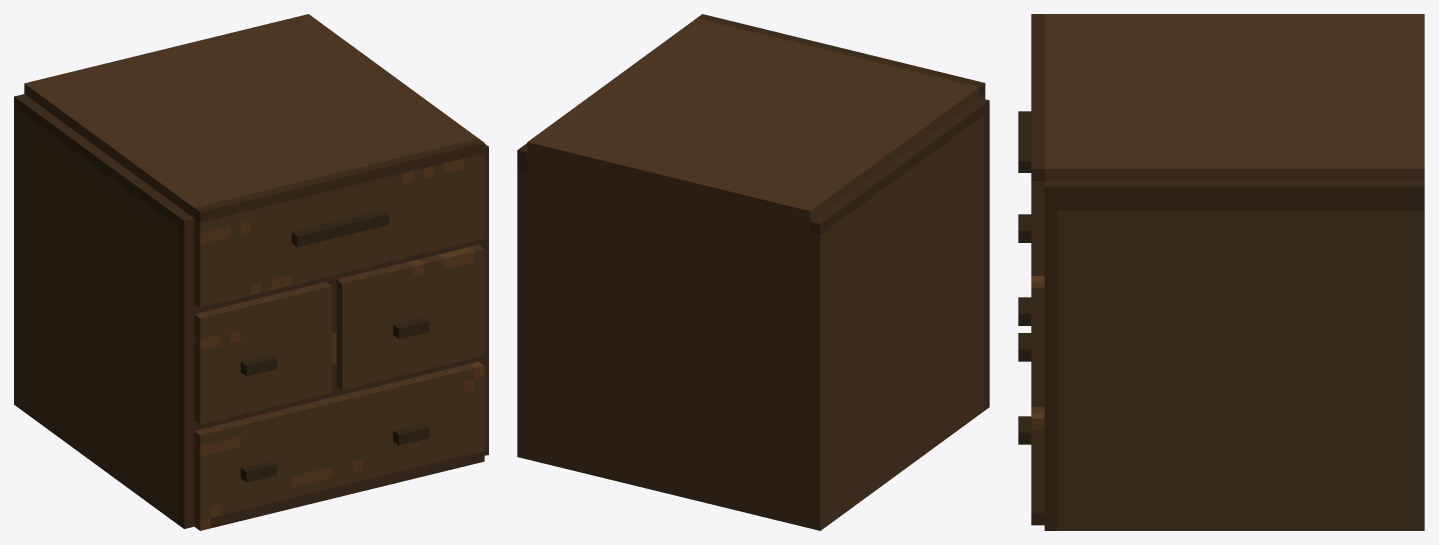
Rendered from tymbochka.obj.
3 views of the same model, side by side, from view 1: azimuth 30°, elevation 25°; view 2: azimuth 150°, elevation 25°; view 3: azimuth 270°, elevation 25° (orthographic). The views are drawn at different scales.
Size of the model in its own units: 3 by 3 by 3.1.
Materials: 1 (1 with a texture image).
